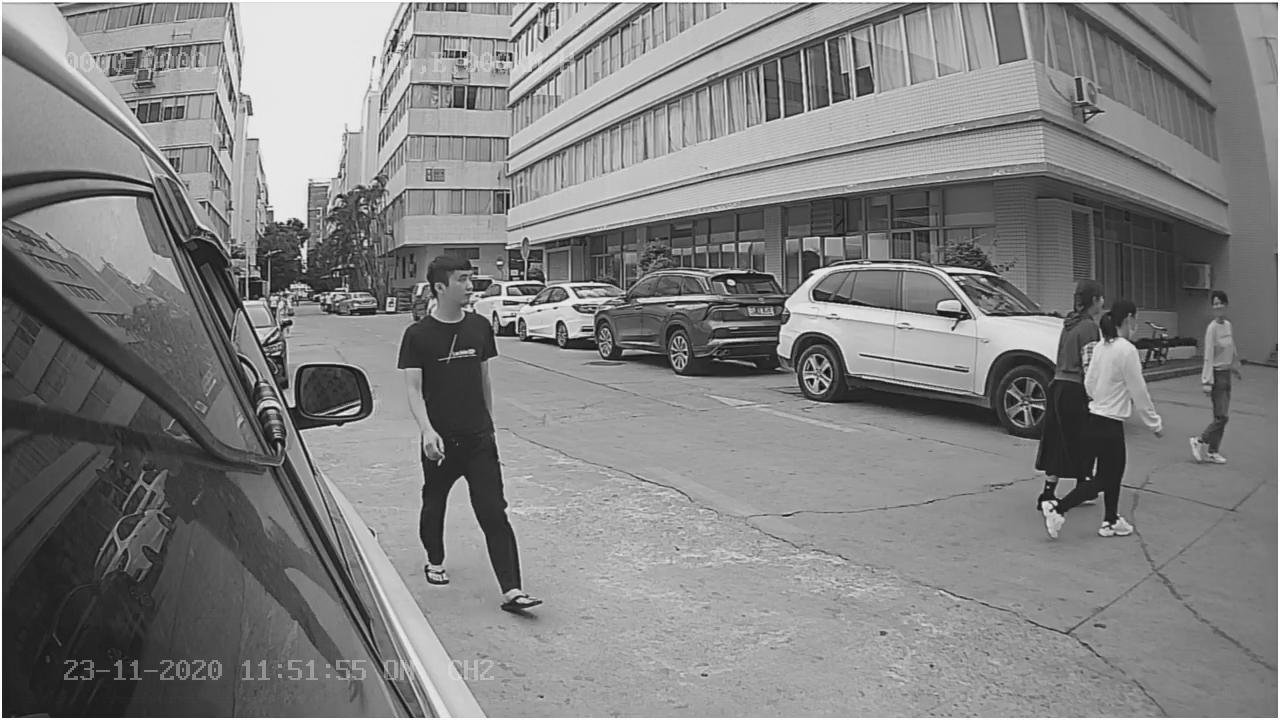person: (400, 251, 549, 613), (1038, 296, 1154, 537), (1185, 283, 1243, 470)
